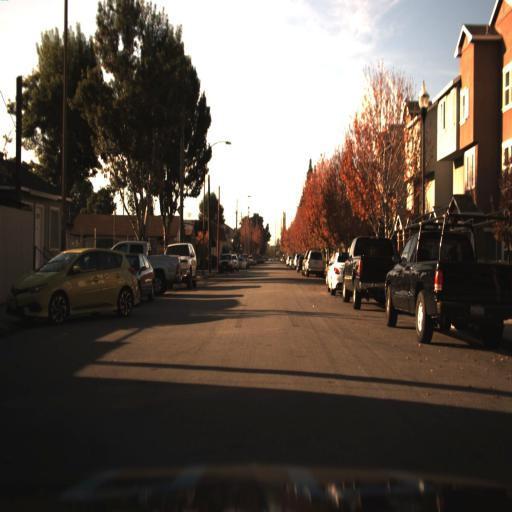car: (385, 213, 510, 354), (381, 212, 511, 342), (13, 239, 145, 337), (5, 244, 139, 322), (335, 228, 395, 315), (342, 232, 399, 312), (150, 240, 183, 297), (125, 250, 156, 307), (321, 237, 346, 301), (171, 238, 200, 293), (167, 239, 195, 292), (137, 251, 159, 306), (305, 245, 325, 278), (214, 249, 233, 274)
